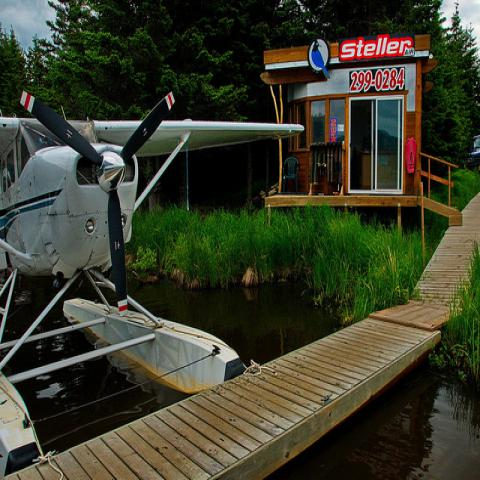car: (466, 134, 479, 170)
